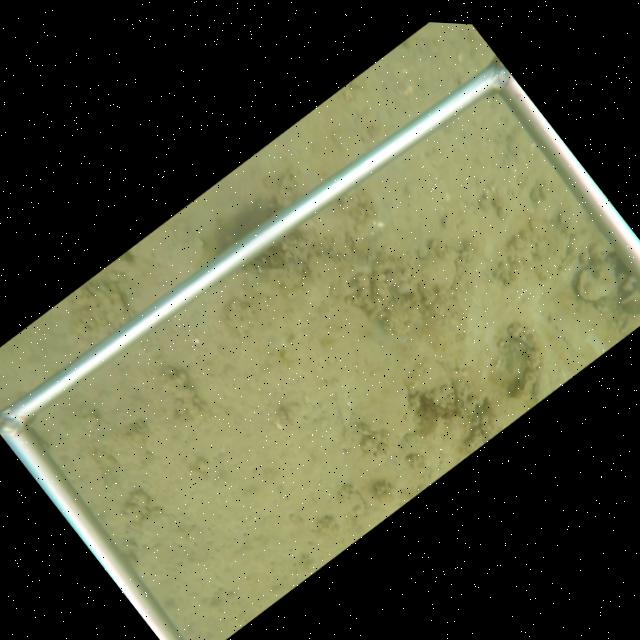Oyster-Closed: (572, 251, 620, 302)
Oyster-Indeterminate: (413, 249, 462, 298)
